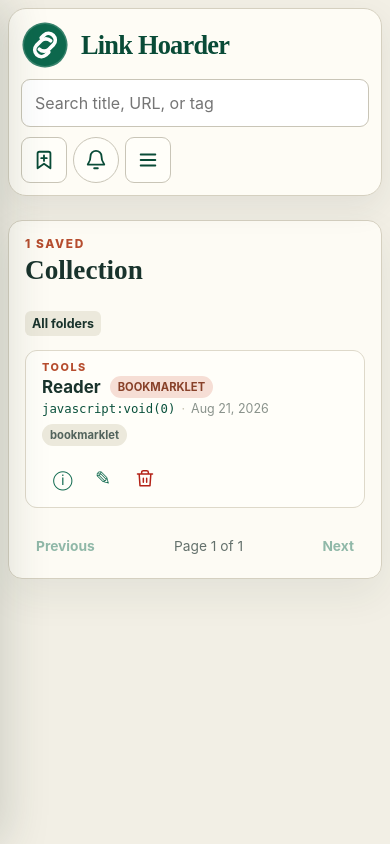
it: App › opens and closes the collection navigation drawer
expect the header named "Open collection navigation" is shown: met, box [8,8,382,196]
What coordinates should you click on to do the following:
click the button named "Open collection navigation"
I would click on:
 (148, 160)
Its box is [125,137,171,183].
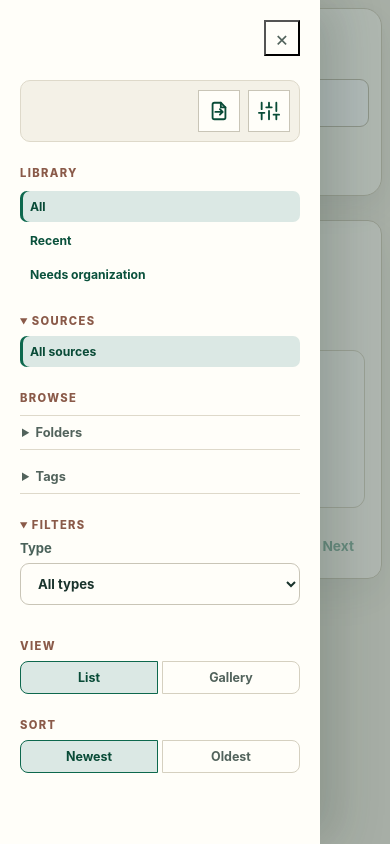
expect the button named "Open collection navigation" is expanded: met, box [125,137,171,183]
What coordinates should you click on to do the following:
click the button with class "navigation-backdrop"
I would click on:
 (367, 422)
Its box is [0,0,389,843].
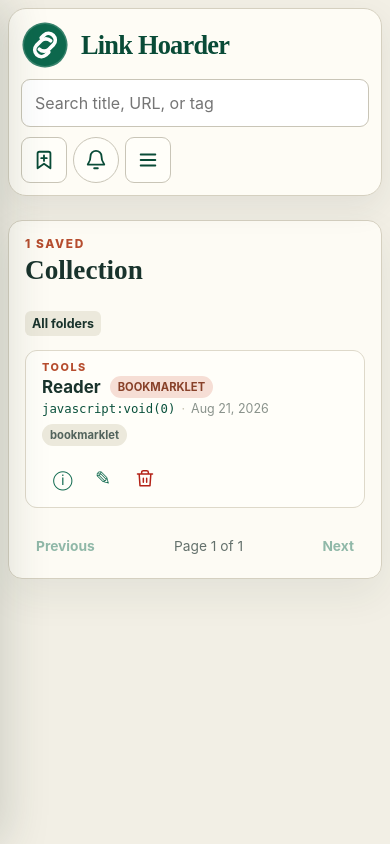
expect the button named "Open collection navigation" is collapsed: met, box [125,137,171,183]
